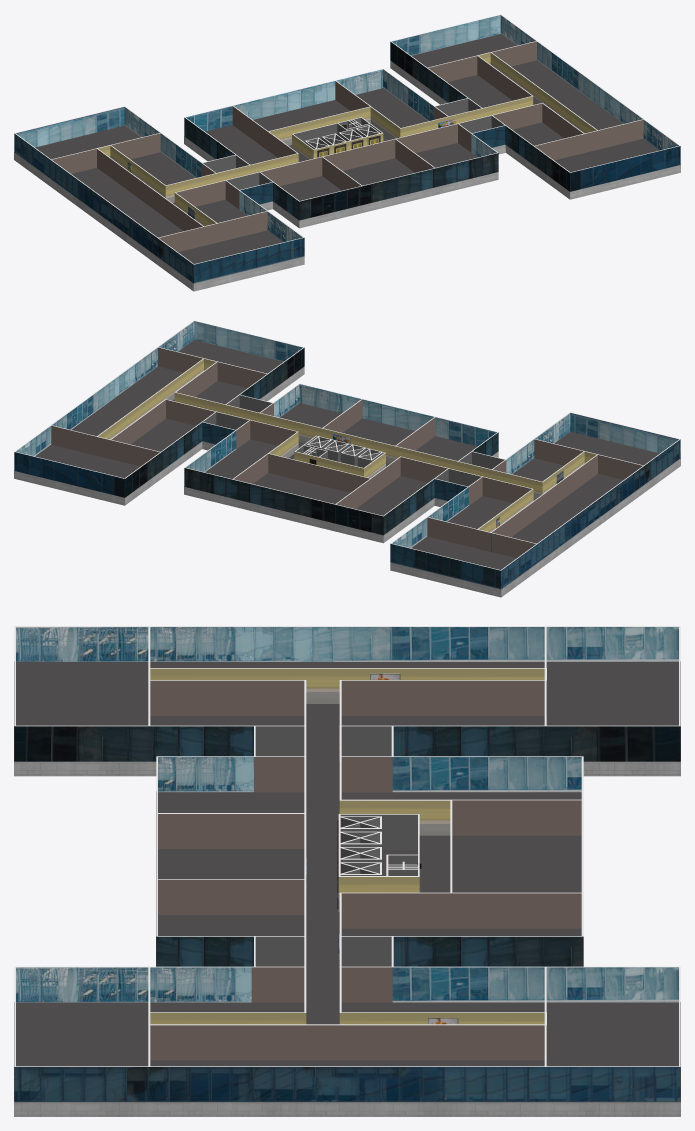
Rendered from FloorplanModel.fbx.
3 views of the same model, one above another, from view 1: azimuth 30°, elevation 25°; view 2: azimuth 150°, elevation 25°; view 3: azimuth 270°, elevation 25° (orthographic). The views are drawn at different scales.
Parts seen in each view (by area): view 1: walls, Plane001; view 2: walls, Plane001; view 3: walls, Plane001.
Boxes of the visible parts, x1,y1,x2,y2 form: walls: [14, 14, 680, 283]; Plane001: [14, 34, 680, 291]; walls: [14, 320, 680, 589]; Plane001: [14, 340, 680, 597]; walls: [14, 626, 680, 1101]; Plane001: [14, 661, 680, 1116].
Size of the model in its own units: 97.03 by 5.1 by 62.01.
Materials: 2 (1 with a texture image).
